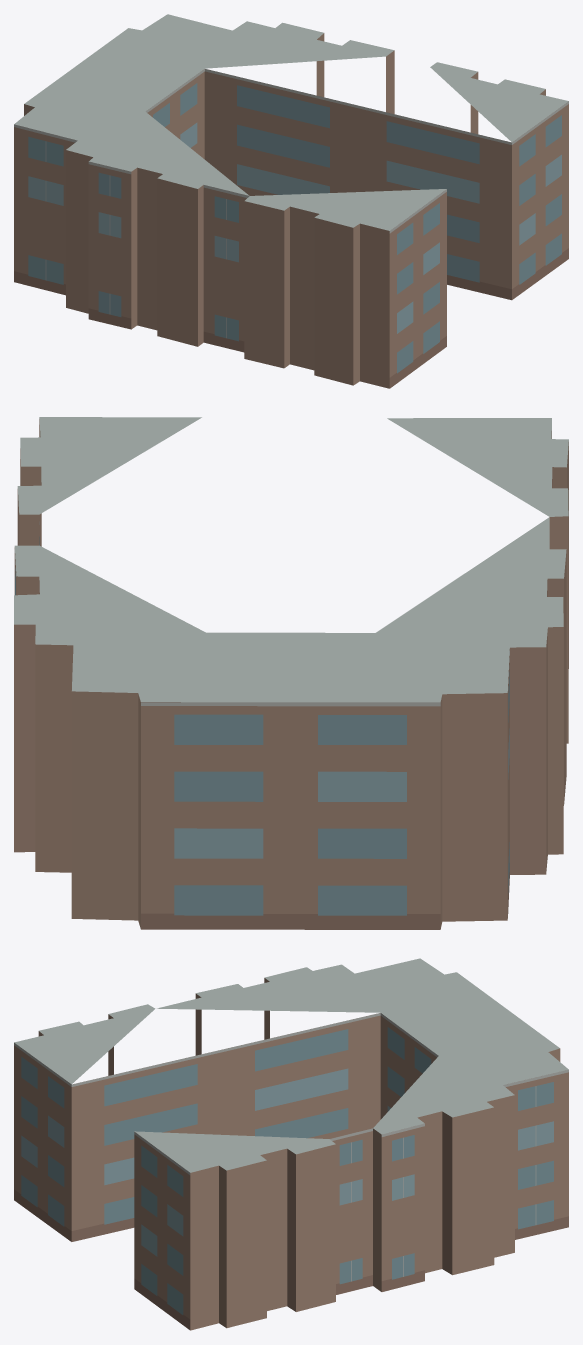
The model's file is survey-upis-32722793.glb.
3 renders of one model, top to bottom at view 1: azimuth 30°, elevation 25°; view 2: azimuth 150°, elevation 25°; view 3: azimuth 270°, elevation 25°, orthographic. The views are drawn at different scales.
Parts seen in each view (by area): view 1: survey-upis-32722793.tmp; view 2: survey-upis-32722793.tmp; view 3: survey-upis-32722793.tmp.
Boxes of the visible parts, left/top/right/bottom form: survey-upis-32722793.tmp: left=14, top=14, right=568, bottom=388; survey-upis-32722793.tmp: left=14, top=417, right=568, bottom=929; survey-upis-32722793.tmp: left=14, top=958, right=568, bottom=1330.
Bounding box in the file's own units: 41.14 × 14.1 × 44.97.
